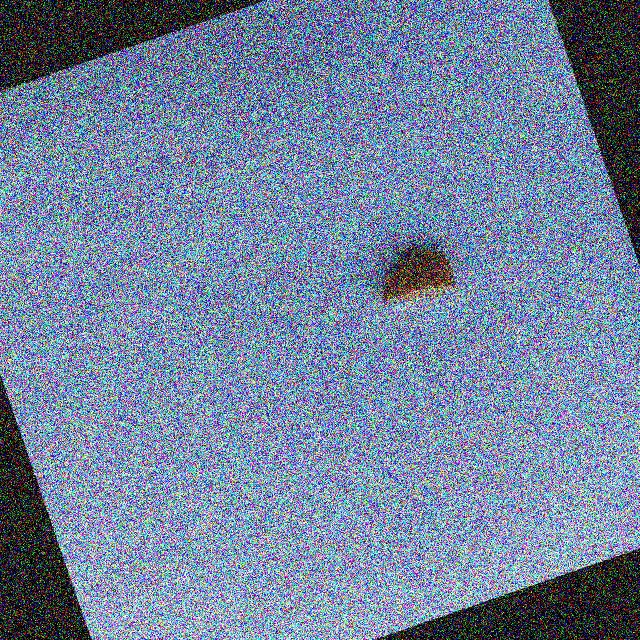grade4: (360, 232, 467, 321)
